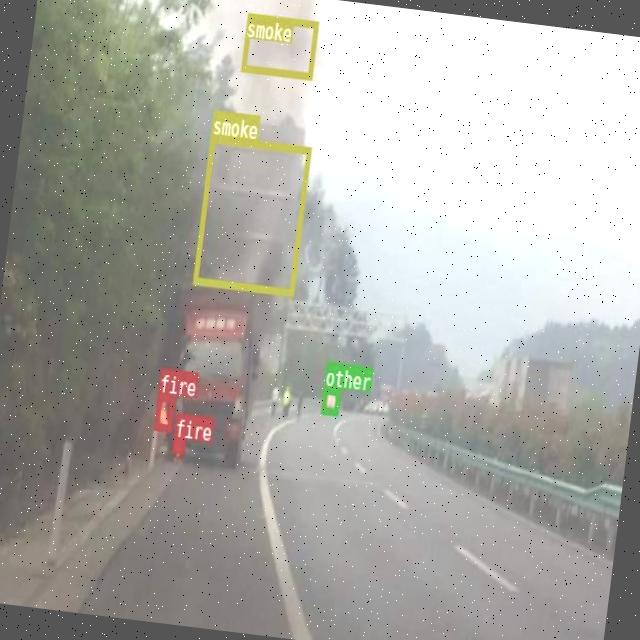fire: (153, 392, 175, 429), (171, 437, 184, 452)
smoke: (192, 134, 310, 294), (240, 12, 318, 78)
